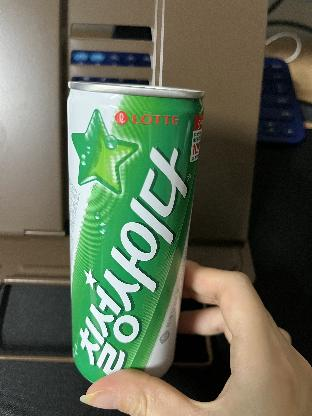Can: (68, 80, 208, 381)
